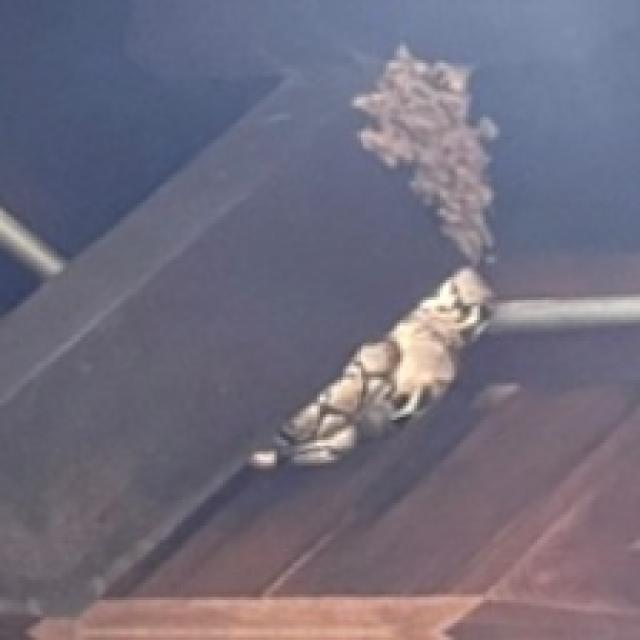reticulated python: (249, 266, 491, 466)
